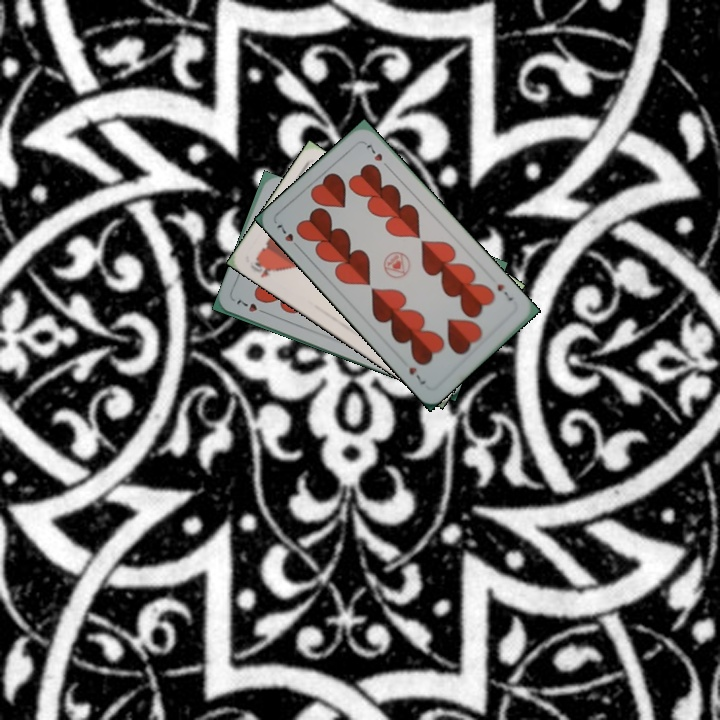H7: (272, 220, 304, 252), (232, 295, 270, 317), (493, 280, 516, 304)
HO: (246, 255, 278, 280)
